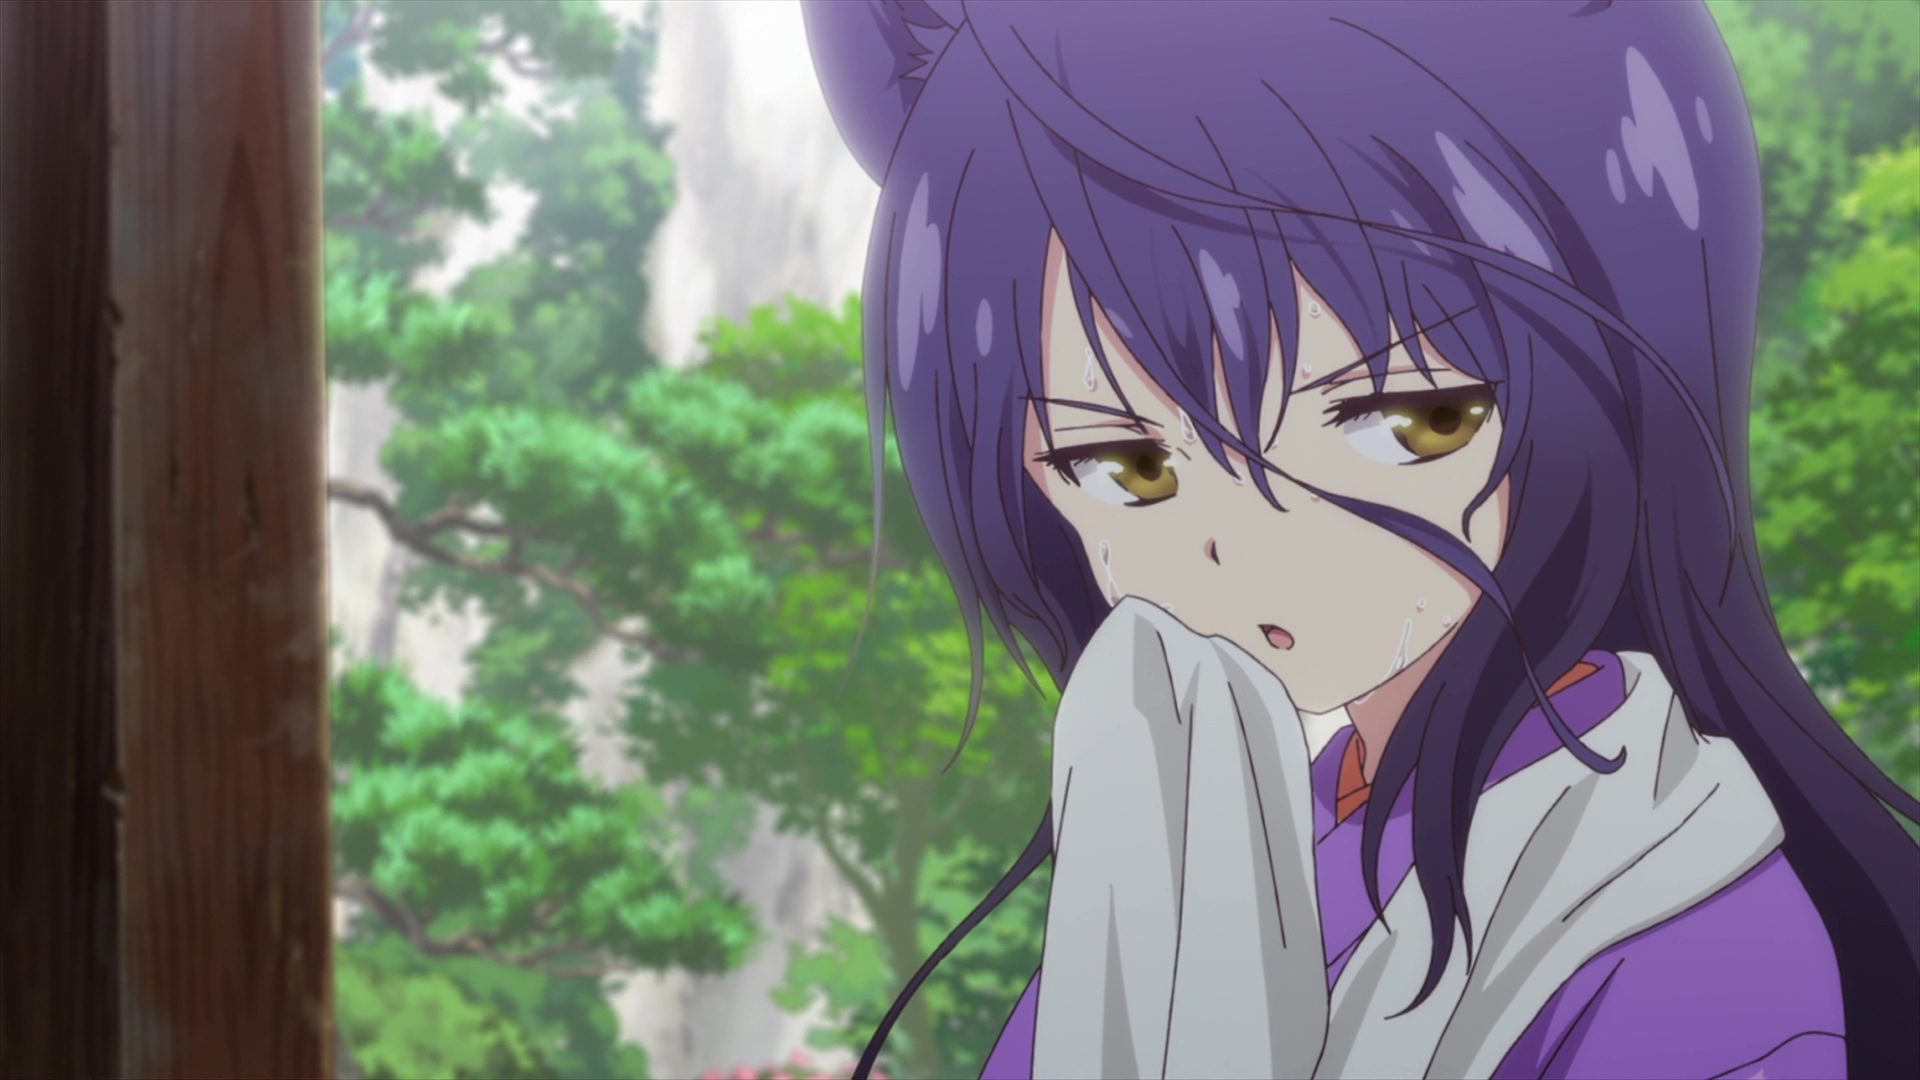皋: (800, 1, 1920, 1080)
